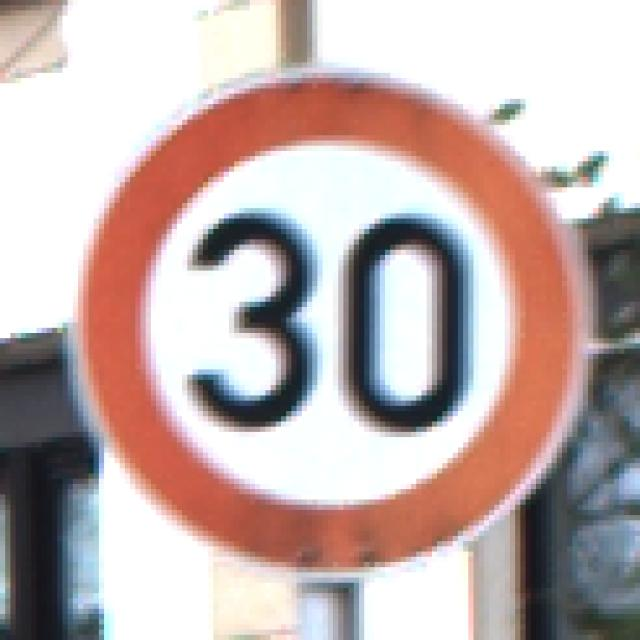Speed Limit -30-: (50, 50, 580, 580)
